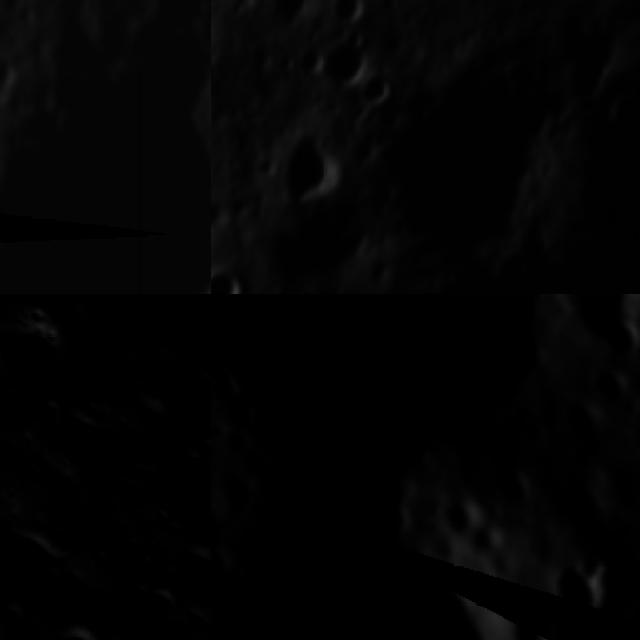crater: (211, 368, 640, 640), (211, 294, 595, 531), (0, 74, 211, 294), (375, 59, 552, 268), (0, 303, 88, 408), (534, 546, 620, 632), (558, 10, 620, 110), (274, 128, 348, 209), (538, 384, 612, 458), (425, 476, 496, 548), (494, 590, 580, 640), (556, 294, 640, 342), (486, 460, 550, 522), (579, 347, 640, 410), (457, 508, 517, 570), (313, 33, 368, 90), (140, 575, 190, 622), (211, 358, 247, 411), (176, 533, 211, 584), (353, 66, 391, 111), (47, 615, 111, 640), (0, 592, 32, 637), (240, 40, 272, 77), (266, 0, 312, 24), (192, 0, 211, 55), (325, 0, 366, 25), (211, 264, 245, 294), (271, 42, 293, 80)
